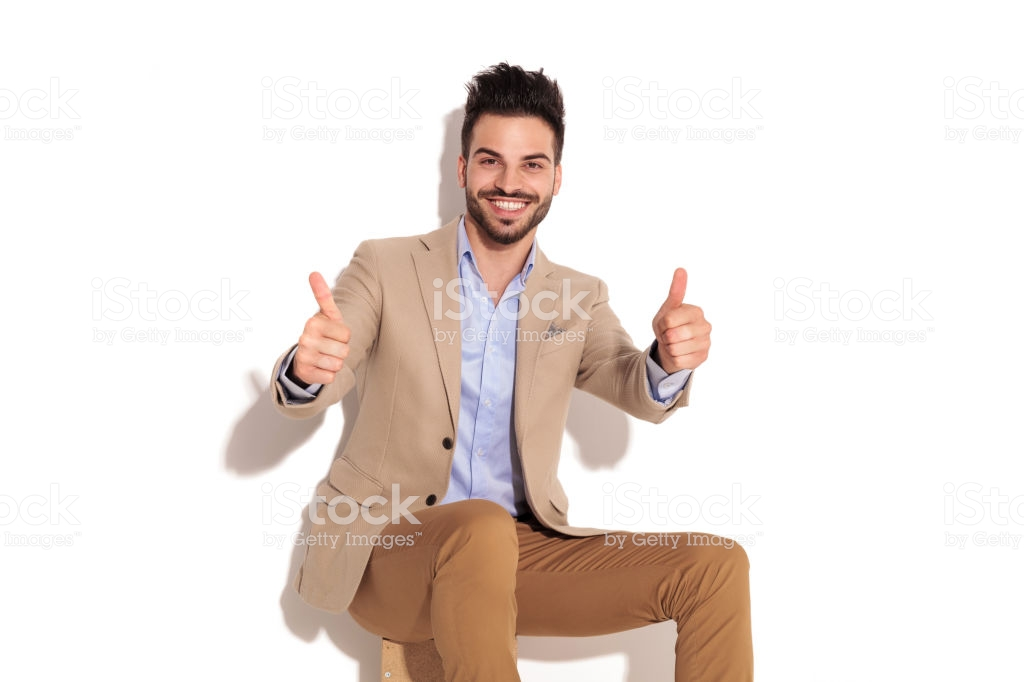thumbsup: (290, 270, 354, 386), (651, 265, 714, 372)
